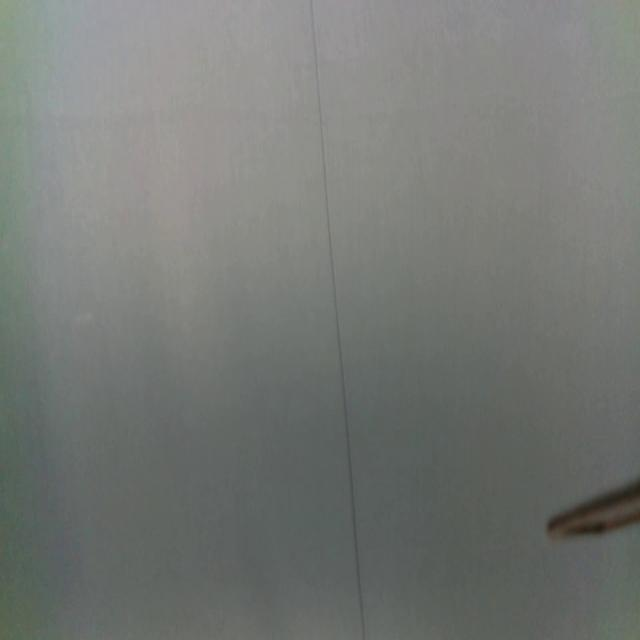crease: (310, 0, 368, 640)
